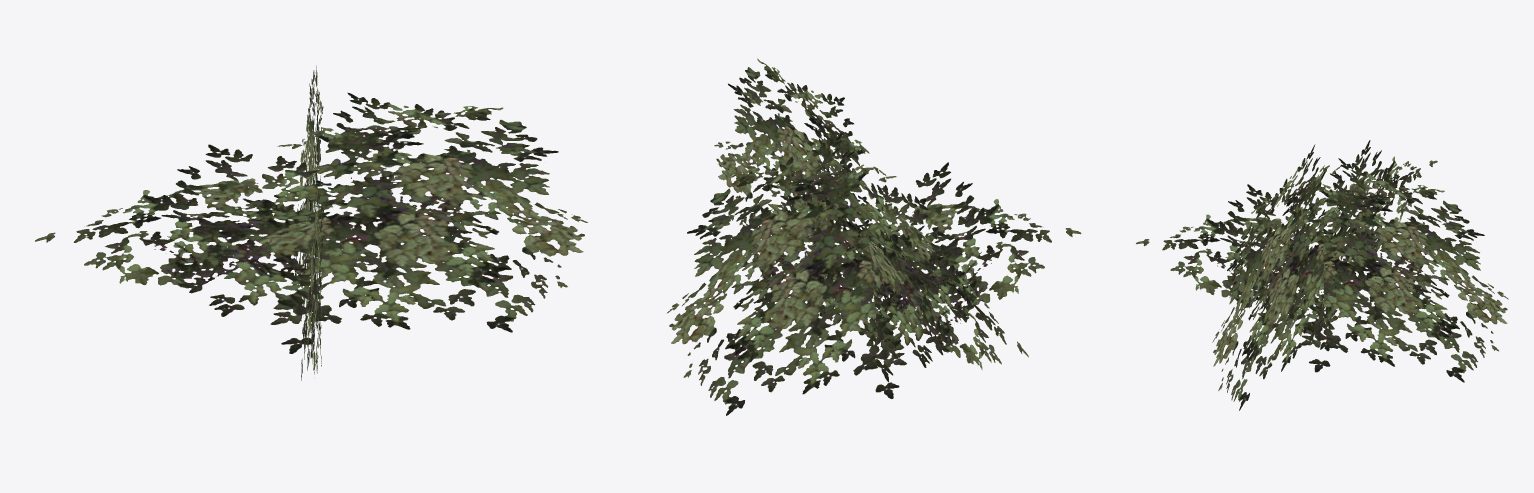
The model's file is decd_saplingclump_sm_l2.fbx.
3 views of the same model, side by side, from view 1: azimuth 30°, elevation 25°; view 2: azimuth 150°, elevation 25°; view 3: azimuth 270°, elevation 25° (orthographic). The views are drawn at different scales.
Visible parts, largest first — view 1: mesh_node; view 2: mesh_node; view 3: mesh_node.
Boxes of the visible parts, x1,y1,x2,y2 form: mesh_node: (35, 65, 587, 380); mesh_node: (667, 58, 1081, 415); mesh_node: (1136, 140, 1508, 410).
Size of the model in its own units: 3.44 by 2.28 by 2.79.
